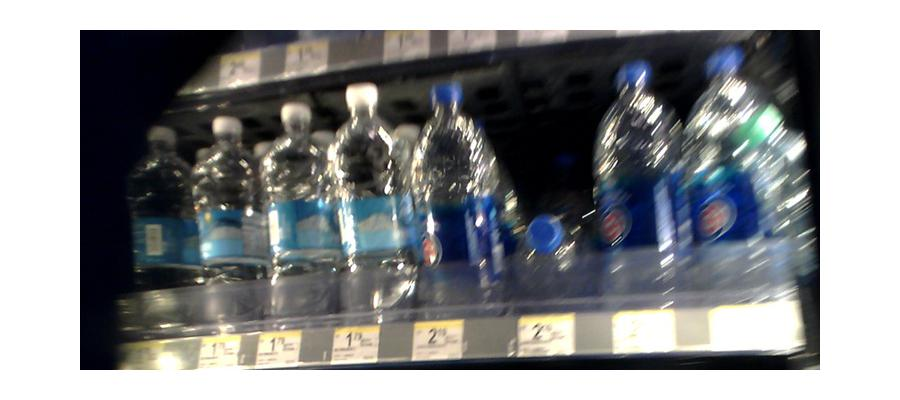bottle: (684, 47, 791, 307), (405, 75, 511, 319), (594, 59, 683, 302), (325, 84, 412, 324), (259, 101, 334, 324), (190, 114, 260, 331), (121, 125, 190, 335), (514, 199, 586, 302)
